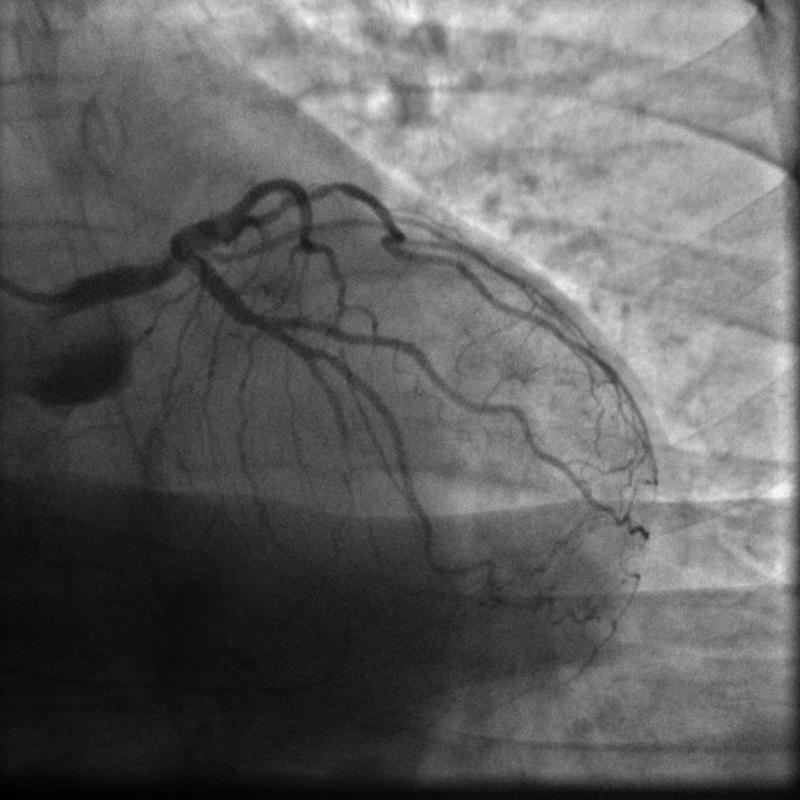Stenosis: (246, 301, 275, 347)
